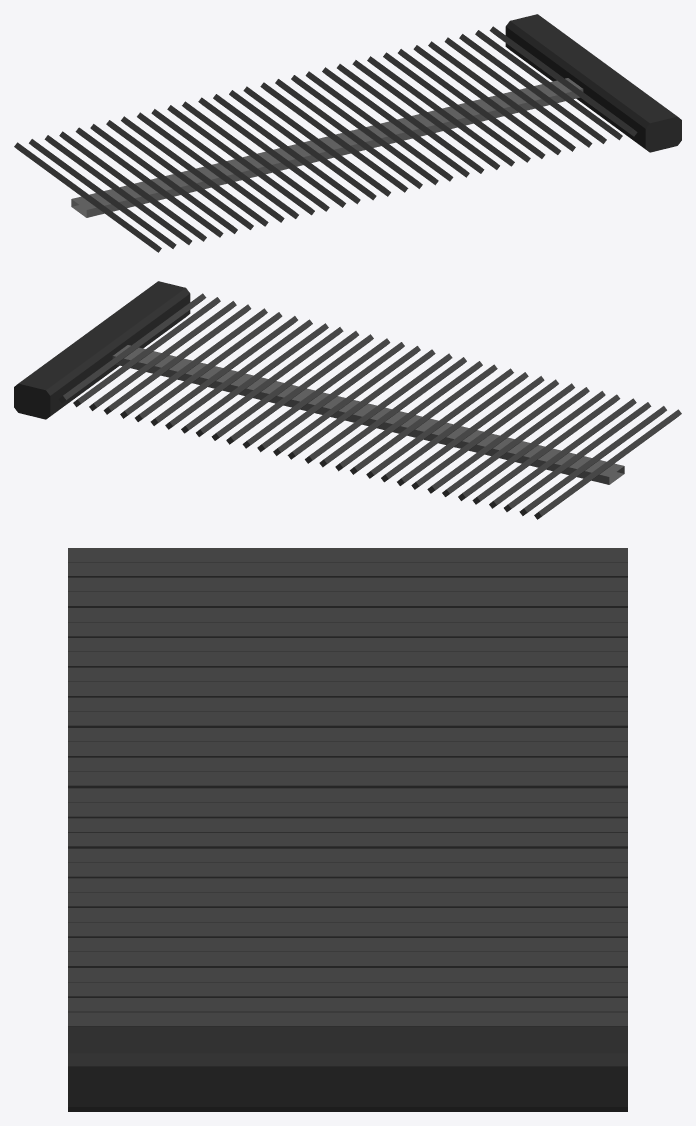
The model's file is office_dropoff_gate.FBX.
3 views of the same model, one above another, from view 1: azimuth 30°, elevation 25°; view 2: azimuth 150°, elevation 25°; view 3: azimuth 270°, elevation 25° (orthographic). The views are drawn at different scales.
Parts seen in each view (by area): view 1: office_2_dropoff_gate; view 2: office_2_dropoff_gate; view 3: office_2_dropoff_gate.
Part boxes in pixels (x1,y1,x2,y2): office_2_dropoff_gate: (14, 14, 681, 252); office_2_dropoff_gate: (14, 281, 681, 519); office_2_dropoff_gate: (68, 548, 627, 1111).
Bounding box in the file's own units: 285 × 15.01 × 130.
